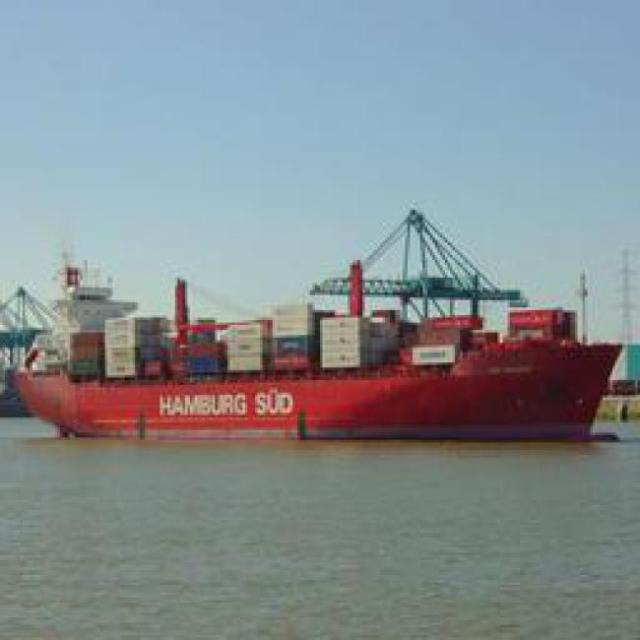boat: (2, 323, 615, 446)
